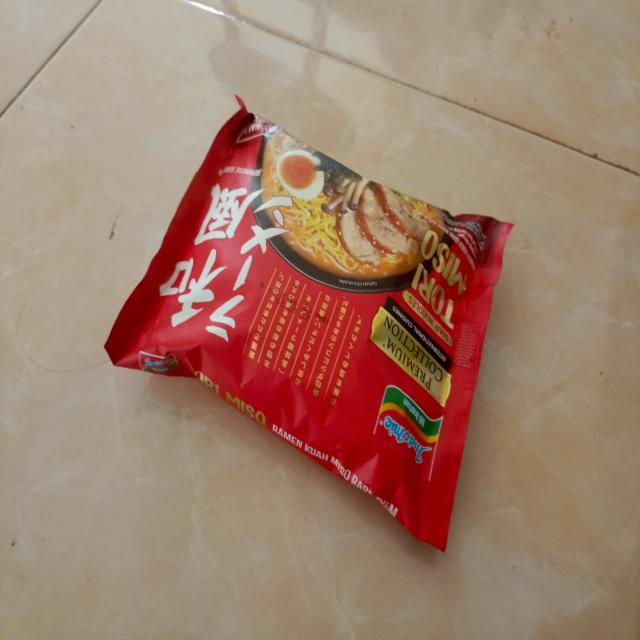indomie-tori-miso: (103, 89, 515, 554)
